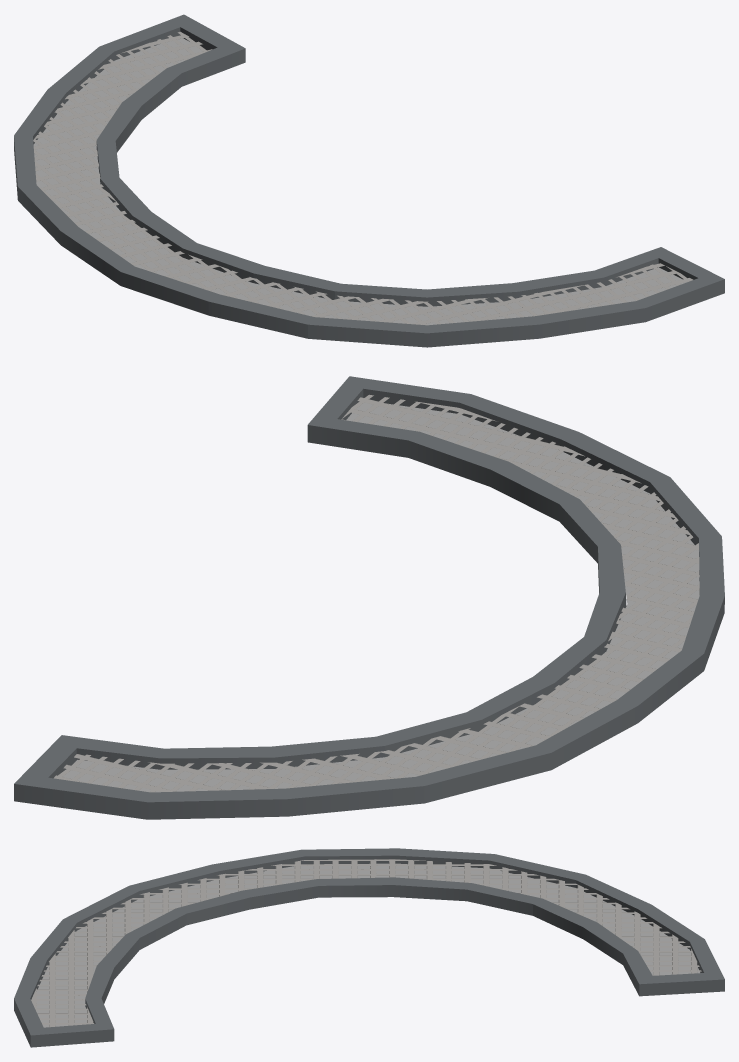
The model's file is LightGreyMetalFloorLargeCurvedPlatform1.fbx.
3 renders of one model, top to bottom at view 1: azimuth 30°, elevation 25°; view 2: azimuth 150°, elevation 25°; view 3: azimuth 270°, elevation 25°, orthographic. The views are drawn at different scales.
Parts seen in each view (by area): view 1: LightGreyMetalFloorLargeCurvedPlatform1; view 2: LightGreyMetalFloorLargeCurvedPlatform1; view 3: LightGreyMetalFloorLargeCurvedPlatform1.
Boxes of the visible parts, x1=… form: LightGreyMetalFloorLargeCurvedPlatform1: x1=14, y1=14, x2=724, y2=347; LightGreyMetalFloorLargeCurvedPlatform1: x1=14, y1=376, x2=724, y2=819; LightGreyMetalFloorLargeCurvedPlatform1: x1=14, y1=848, x2=724, y2=1047.
Size of the model in its own units: 910 by 27.41 by 1460.
3 materials, 1 textured.
